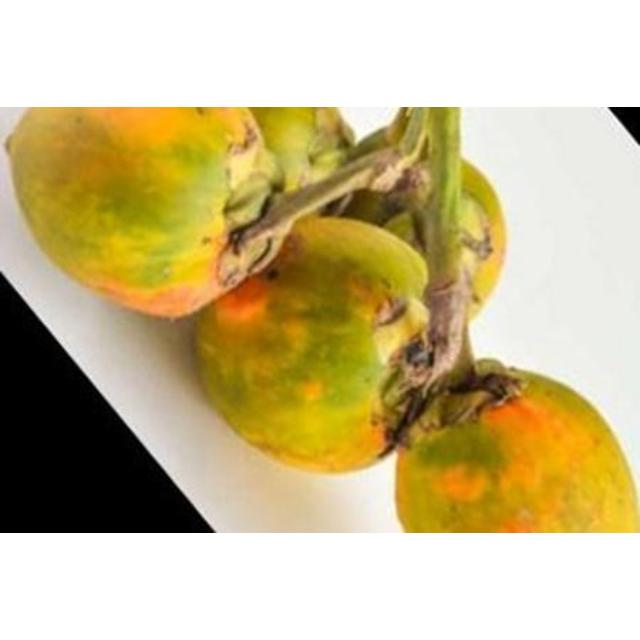good: (194, 215, 436, 472), (9, 109, 268, 315), (395, 367, 639, 533), (346, 156, 504, 327), (236, 108, 352, 202)
